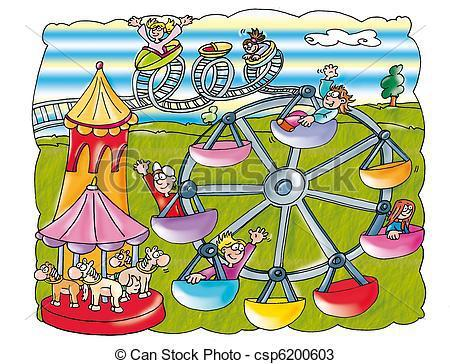horse: (65, 257, 129, 316), (113, 243, 173, 304), (30, 260, 80, 310)
person: (275, 64, 353, 135), (180, 227, 272, 284), (130, 156, 195, 222), (124, 14, 194, 60), (379, 196, 417, 243), (237, 25, 275, 63)
